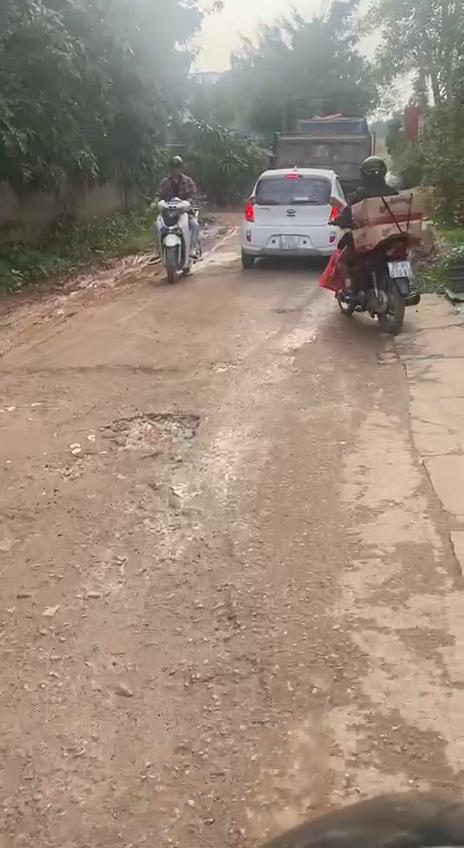pothole: (0, 362, 204, 429), (108, 410, 214, 457)
